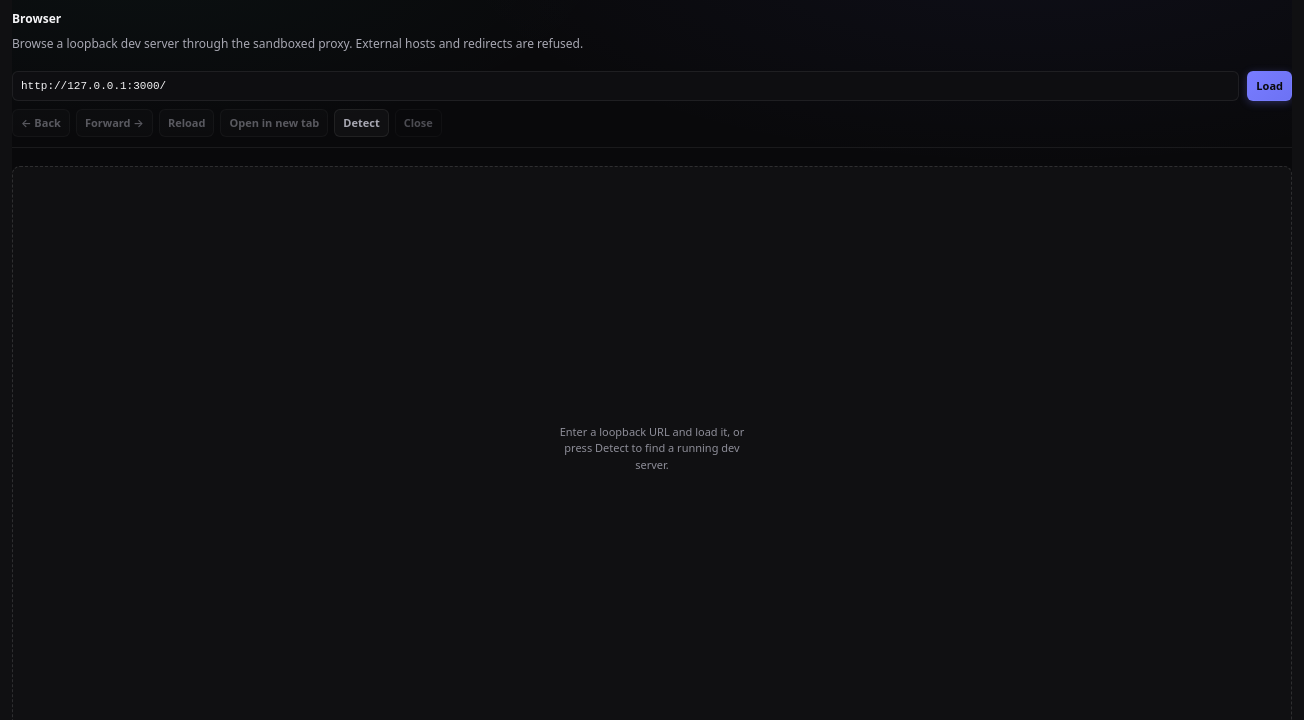
Test: preview panel › reports when no candidate answers
Click the button with test id "preview-detect".
click(361, 123)  # box [334,109,389,137]
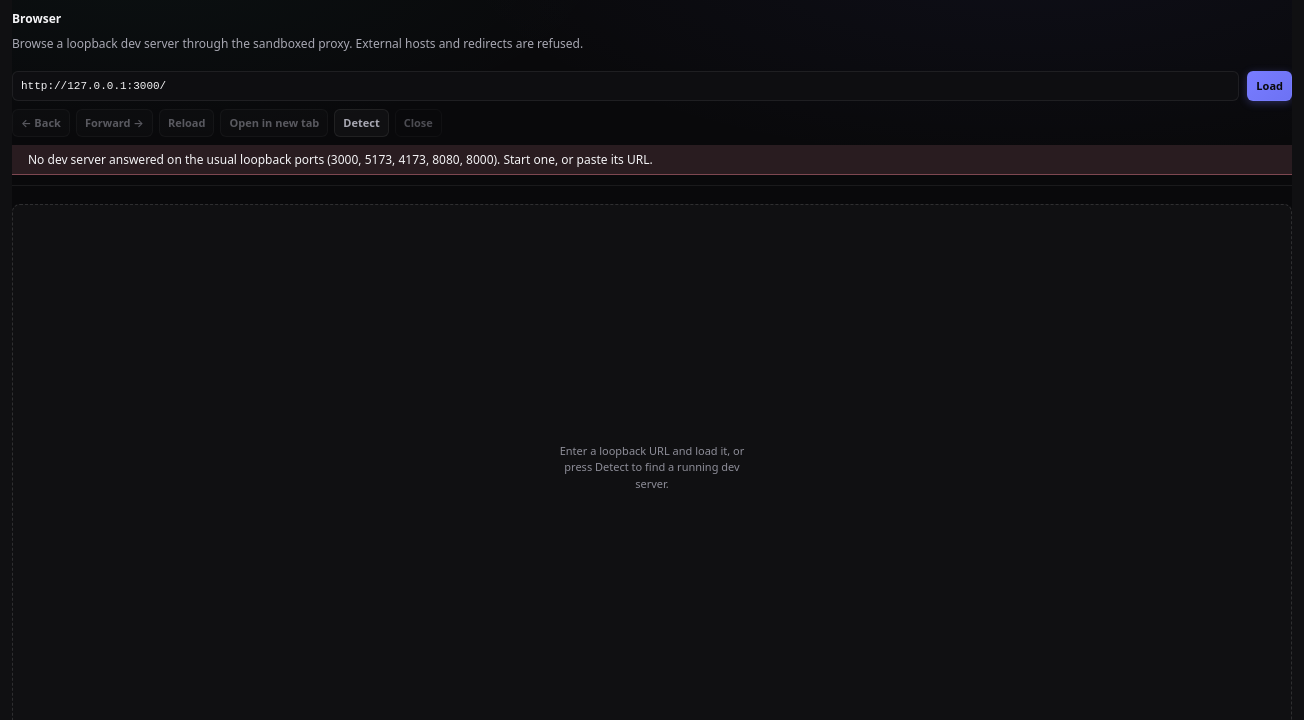
Expected: the message with test id "preview-error" shows "No dev server answered", [28,151,653,168]
